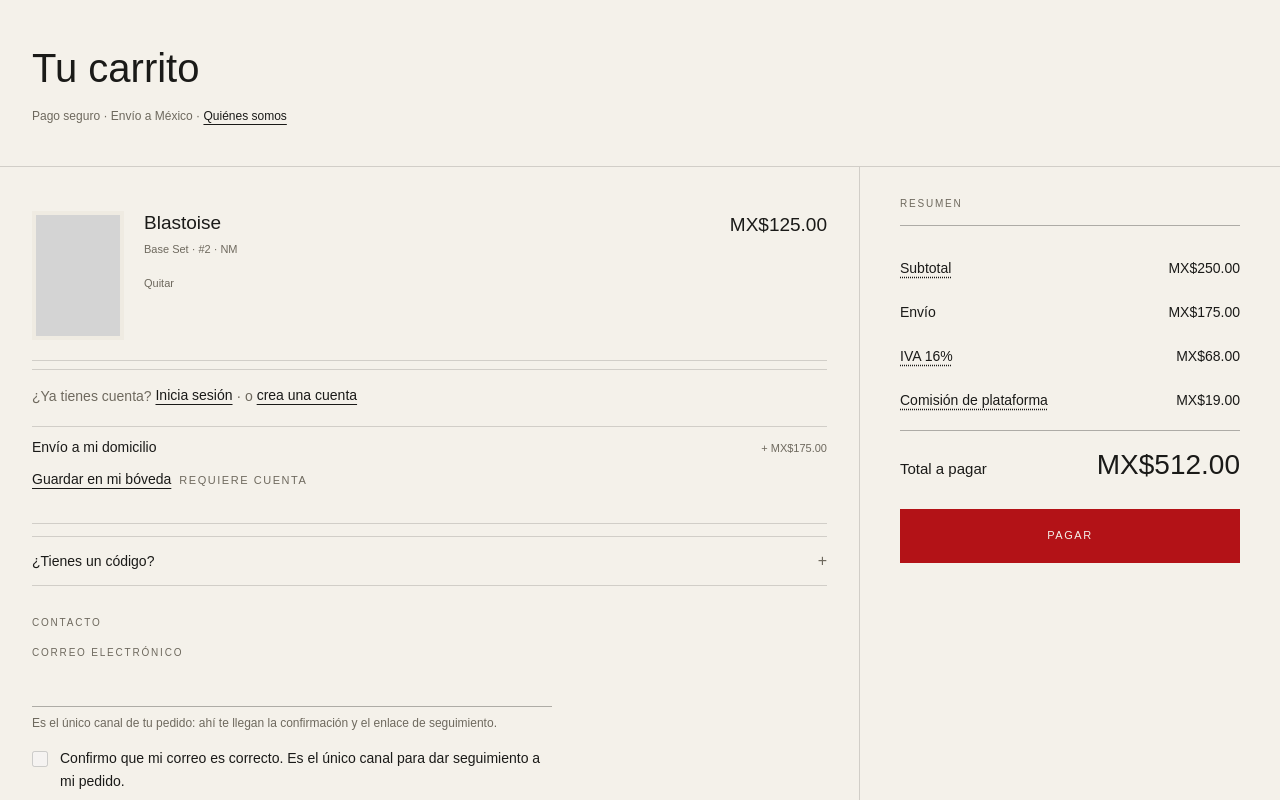
Scenario: GuestCheckoutView · resumen reactivo al destino (v1.21.4-dual-breakdown, N-12) › destino=bóveda: el resumen QUITA la línea de envío y el total = vaultBreakdown.totalCents
Click the button "Guardar en mi bóveda REQUIERE CUENTA" at [102, 479], box [32, 469, 827, 513]
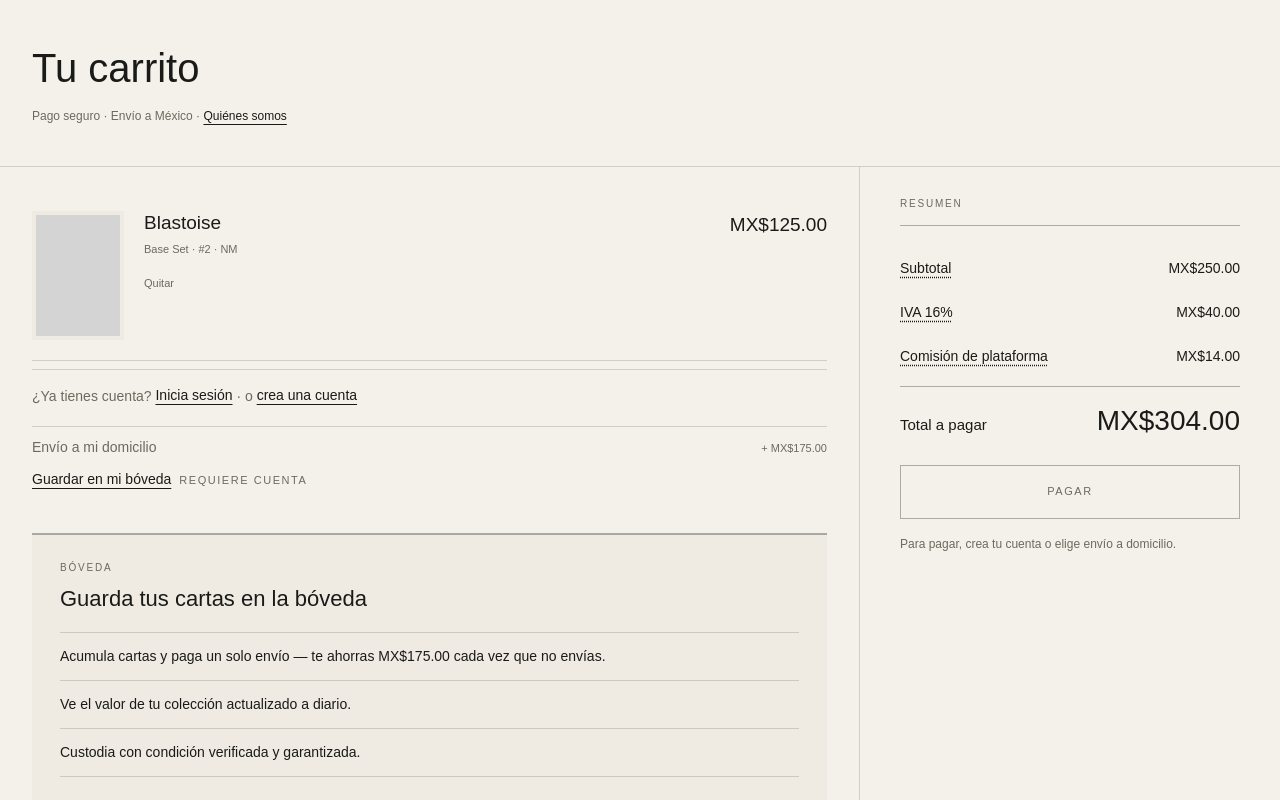
Expected: the button "Pagar" is shown, [900, 464, 1240, 518]
Result: the text "MX$304.00" is shown at [1097, 407, 1240, 435]
Result: the text "MX$512.00" is gone
